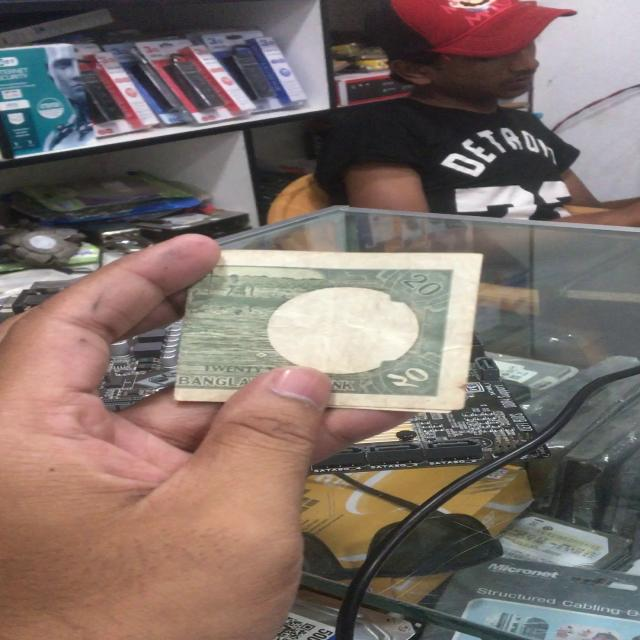Taka: (193, 242, 507, 420)
